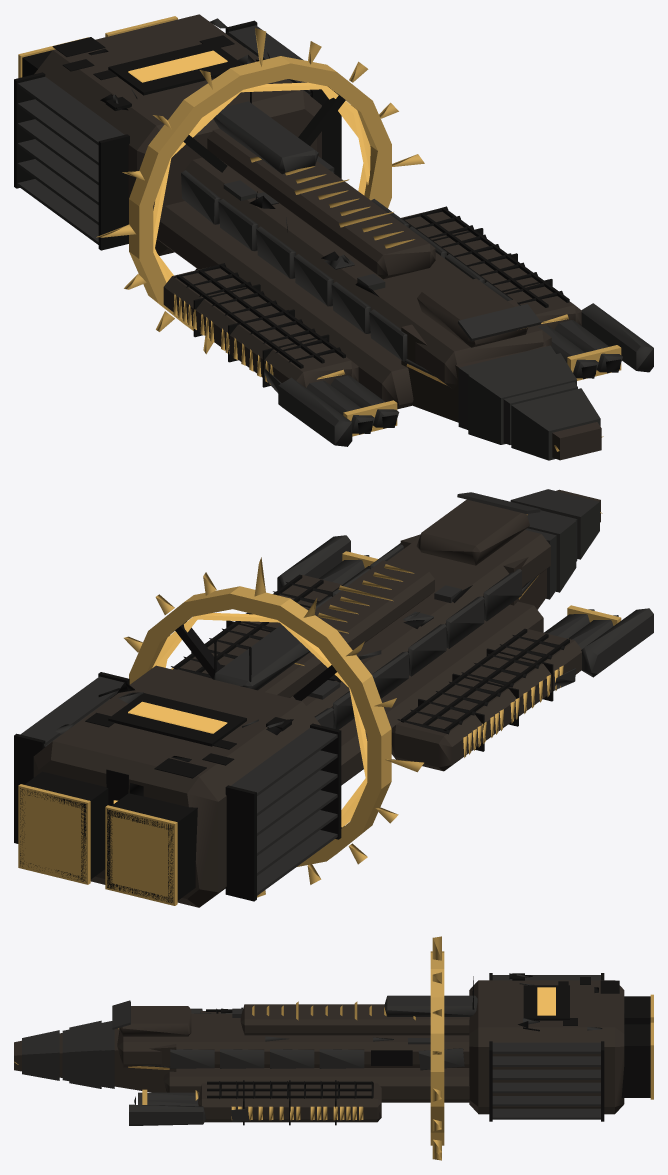
The model's file is goniec-wybudzeni-hawk-21-lod1.glb.
3 views of the same model, one above another, from view 1: azimuth 30°, elevation 25°; view 2: azimuth 150°, elevation 25°; view 3: azimuth 270°, elevation 25° (orthographic). The views are drawn at different scales.
Size of the model in its own units: 5.87 by 5.87 by 15.29.
